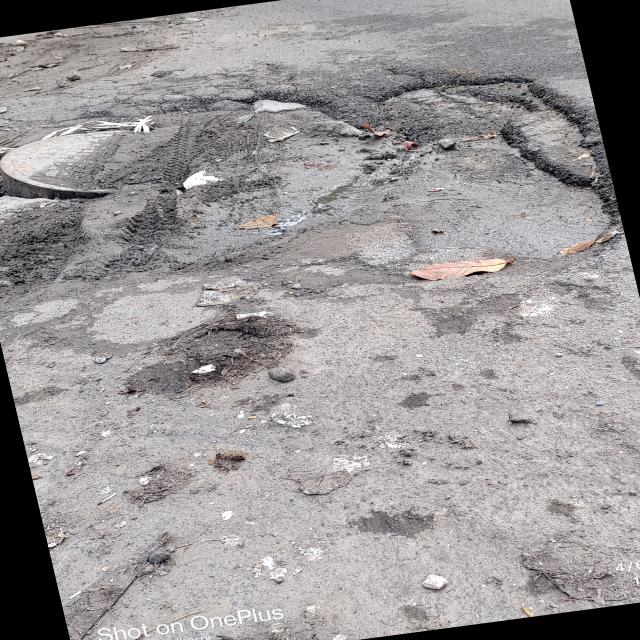potholes: (0, 95, 600, 265), (153, 318, 273, 394)
